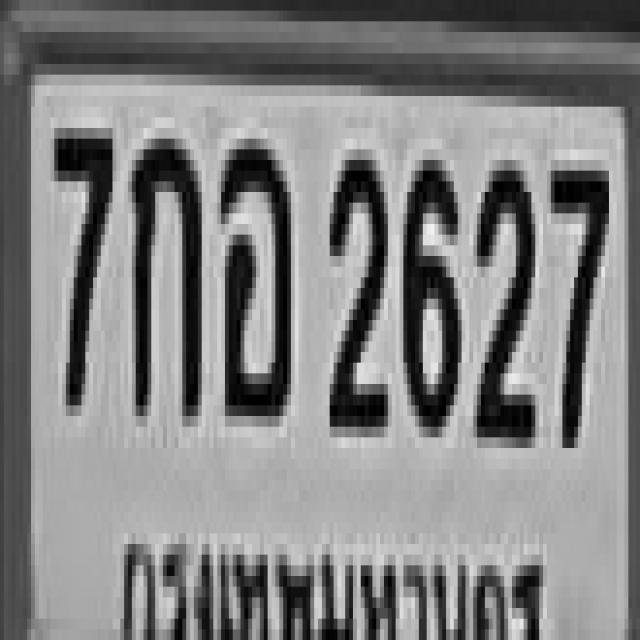10GorGai: (128, 128, 198, 405)
2: (472, 144, 530, 432), (326, 138, 384, 426)
52OrAng: (217, 128, 287, 405)
6: (400, 149, 458, 427)
7: (51, 117, 108, 406), (547, 155, 605, 432)
